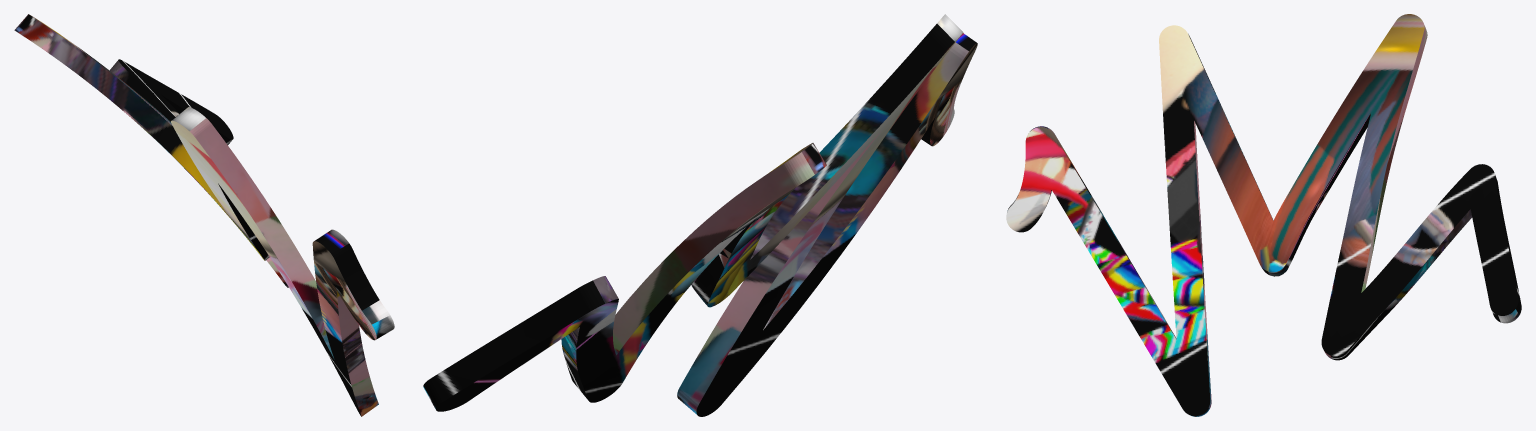
File: zigzag.glb
The picture shows the model from 3 angles, left to right: view 1: azimuth 30°, elevation 25°; view 2: azimuth 150°, elevation 25°; view 3: azimuth 270°, elevation 25°; orthographic projection. The views are drawn at different scales.
Parts seen in each view (by area): view 1: Cube.032; view 2: Cube.032; view 3: Cube.032.
Part boxes in pixels (bbox=[...]): Cube.032: bbox=[14, 14, 394, 416]; Cube.032: bbox=[423, 14, 977, 416]; Cube.032: bbox=[1006, 14, 1521, 416].
Bounding box in the file's own units: 0.9233 × 1.18 × 1.75.
Materials: 1 (1 with a texture image).
